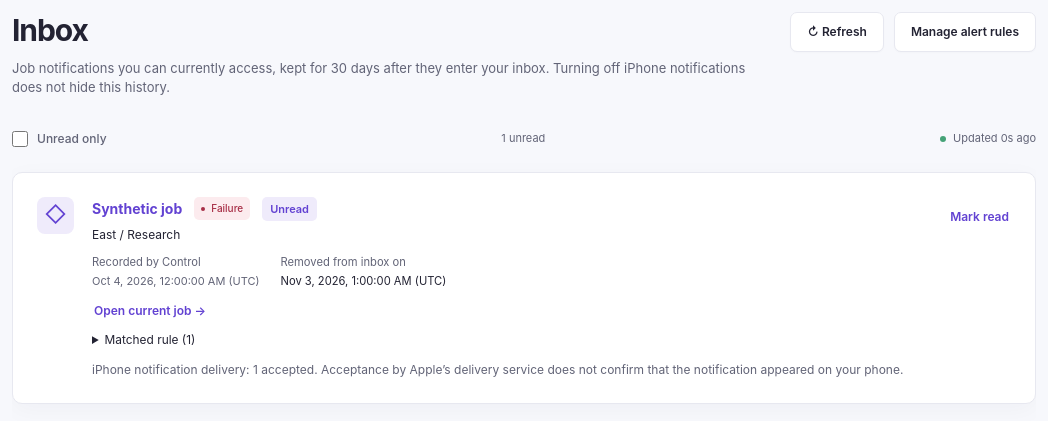
Test: clears history immediately when a mutation finds revoked authority
Expected: the link "Synthetic job" is shown, [92, 198, 182, 219]
Click the button "Mark read" at (980, 216), box [948, 196, 1011, 236]
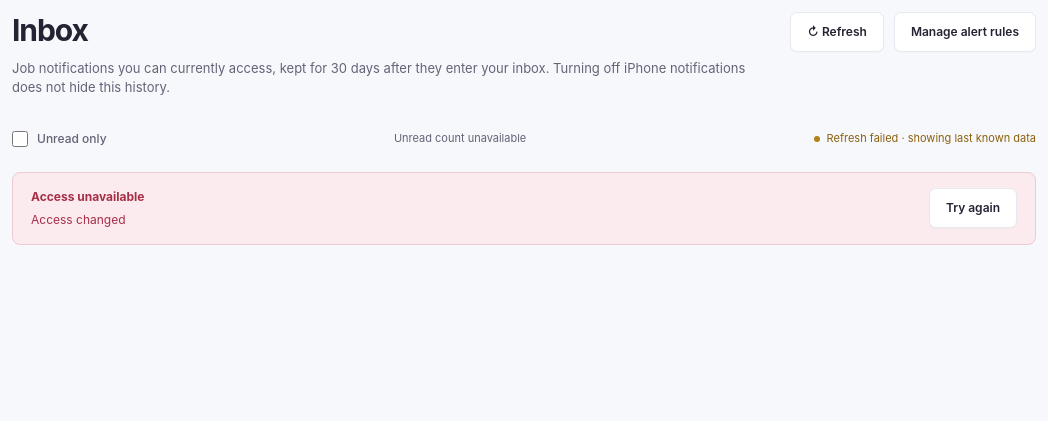
Now the text "Access changed" is shown, box [31, 212, 126, 226]
Now the link "Synthetic job" is gone
